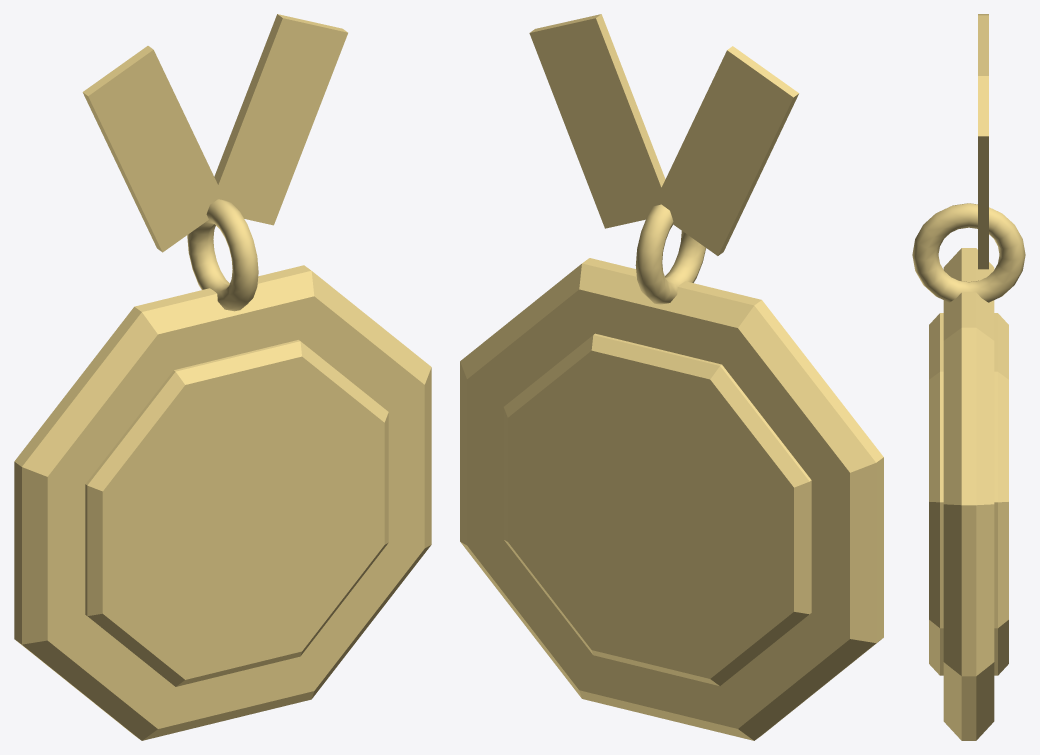
The model's file is octagon.glb.
3 views of the same model, side by side, from view 1: azimuth 30°, elevation 25°; view 2: azimuth 150°, elevation 25°; view 3: azimuth 270°, elevation 25° (orthographic). The views are drawn at different scales.
Visible parts, largest first — view 1: octagon; view 2: octagon; view 3: octagon.
Boxes of the visible parts, x1,y1,x2,y2 form: octagon: (14,14,431,740); octagon: (460,14,883,740); octagon: (912,14,1025,740).
Size of the model in its own units: 0.6282 by 0.9963 by 0.156.
